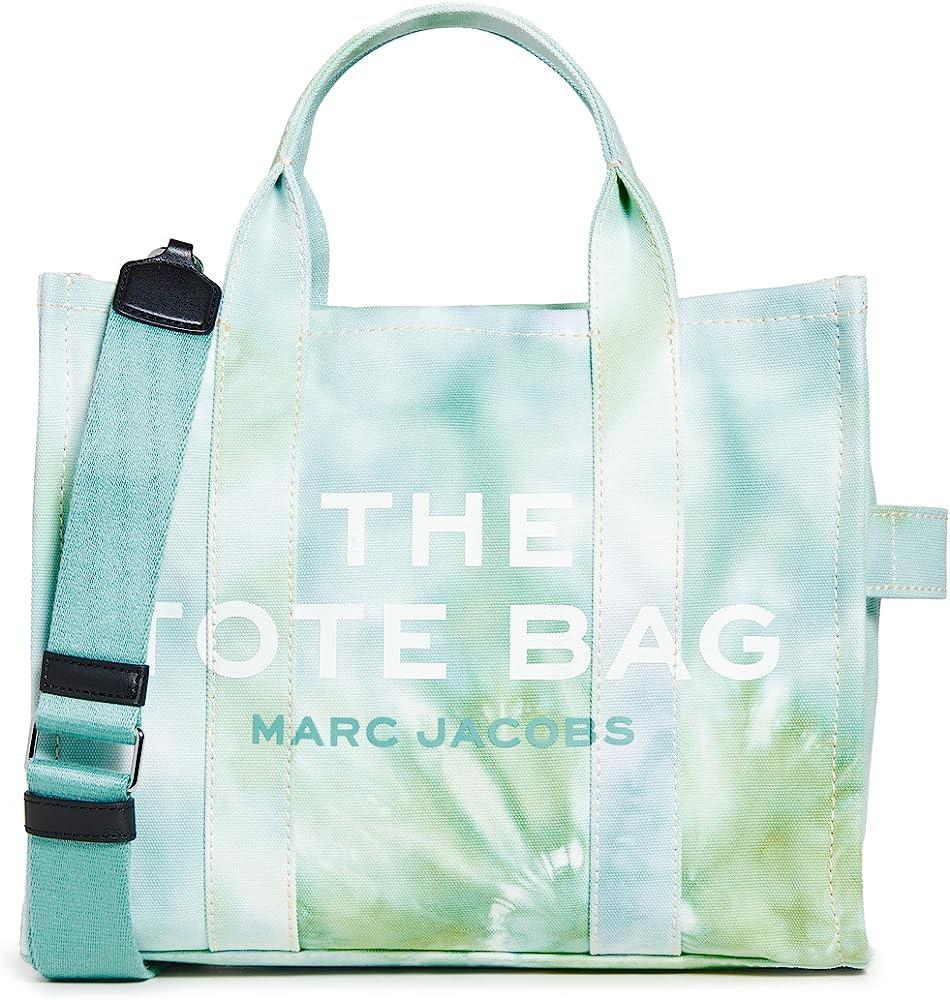MARC-JACOBS: (252, 713, 635, 748)
